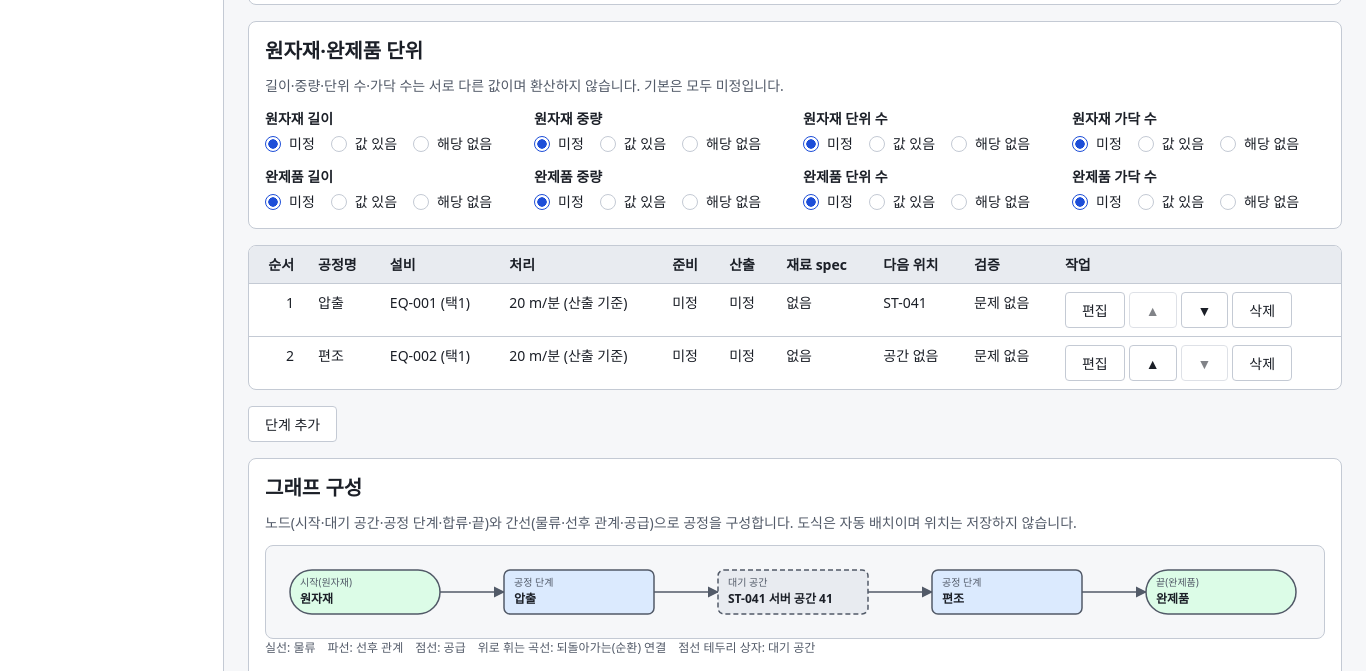
공정 조회 (API) › 설비·공간 목록이 50건을 넘어도 모든 페이지를 받아 선택지를 만든다
(page scrolled)
Expected: the table named "단계" is shown, [249,246,1341,389]
Click the button with aria-label "압출 편집": {"x": 1095, "y": 310} [1065,292,1125,328]
(page scrolled)
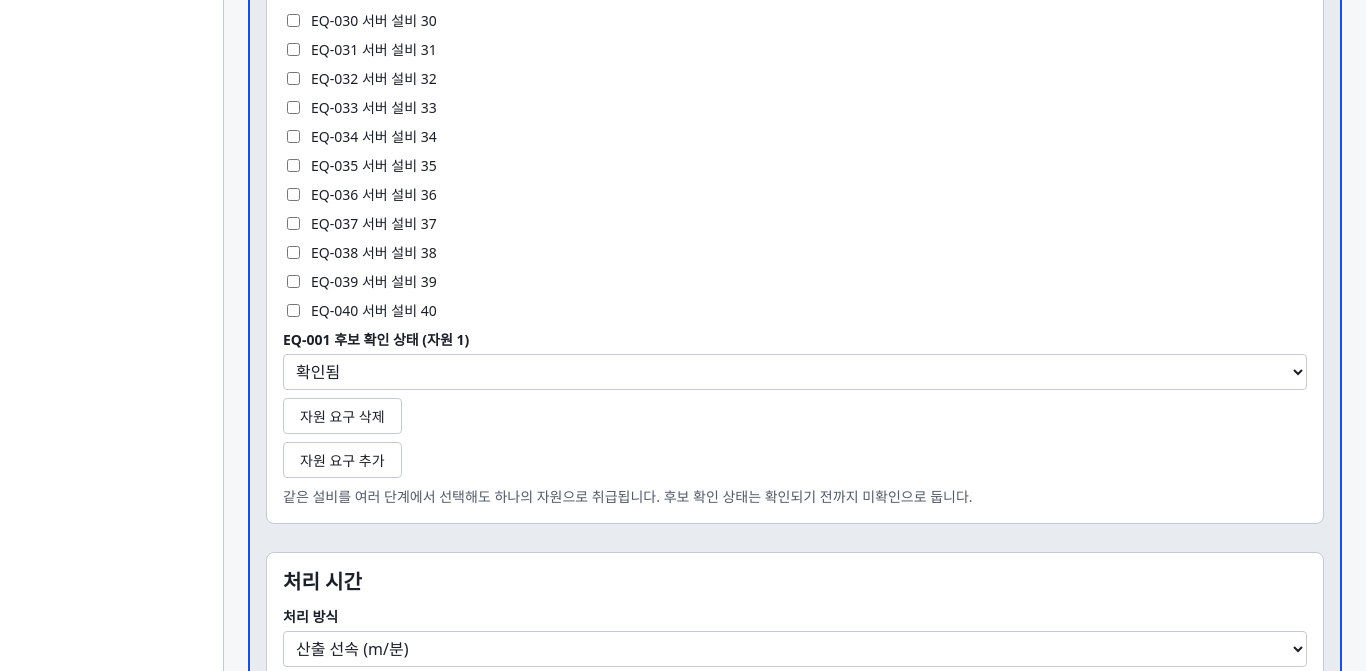
Expected: the checkbox labelled "EQ-040 서버 설비 40" is shown, [287,304,300,317]
